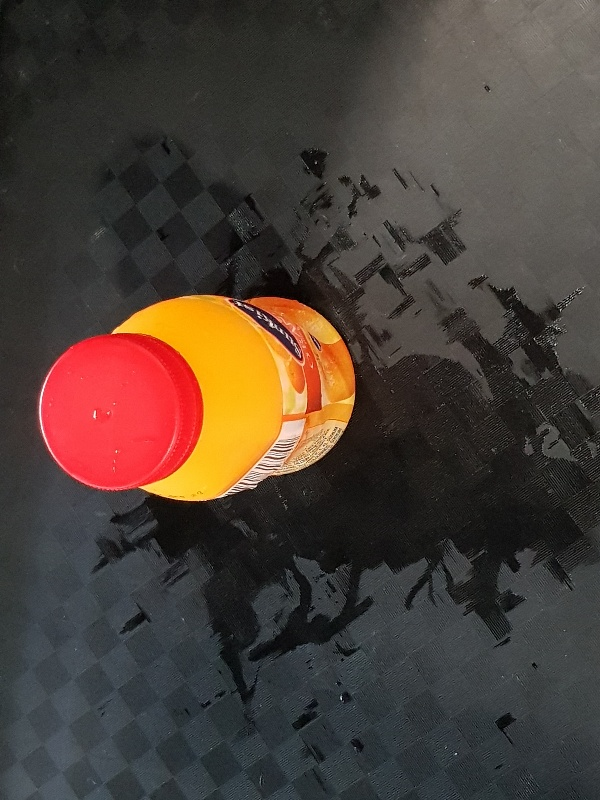Sunkist Orange Juice Drink: (36, 288, 353, 503)
